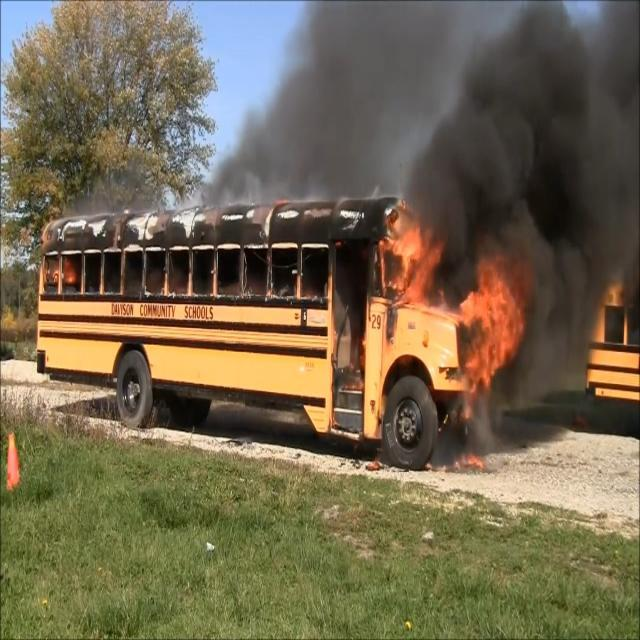Fire: (464, 276, 519, 366), (394, 220, 432, 300)
Smoke: (435, 82, 640, 238)
